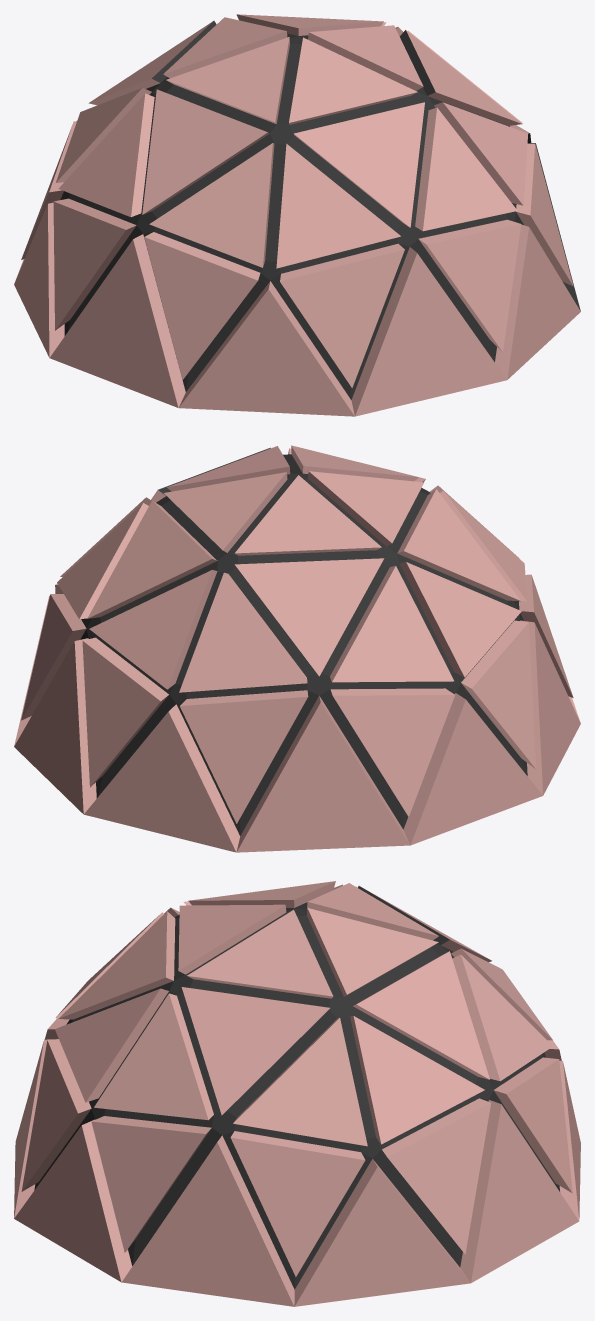
Rendered from laser_base.fbx.
The picture shows the model from 3 angles, top to bottom: view 1: azimuth 30°, elevation 25°; view 2: azimuth 150°, elevation 25°; view 3: azimuth 270°, elevation 25°; orthographic projection. The views are drawn at different scales.
Parts seen in each view (by area): view 1: laser_gun_base; view 2: laser_gun_base; view 3: laser_gun_base.
Boxes of the visible parts, <box> form: laser_gun_base: <box>14,14,580,416</box>; laser_gun_base: <box>14,445,580,852</box>; laser_gun_base: <box>14,881,580,1306</box>.
Bounding box in the file's own units: 37.46 × 19.22 × 35.72.
